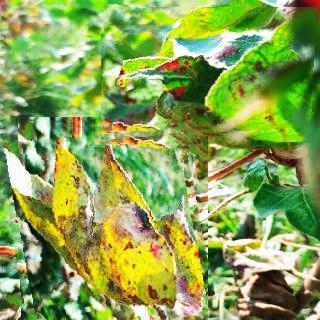blight: (1, 118, 208, 320), (101, 7, 320, 140)
